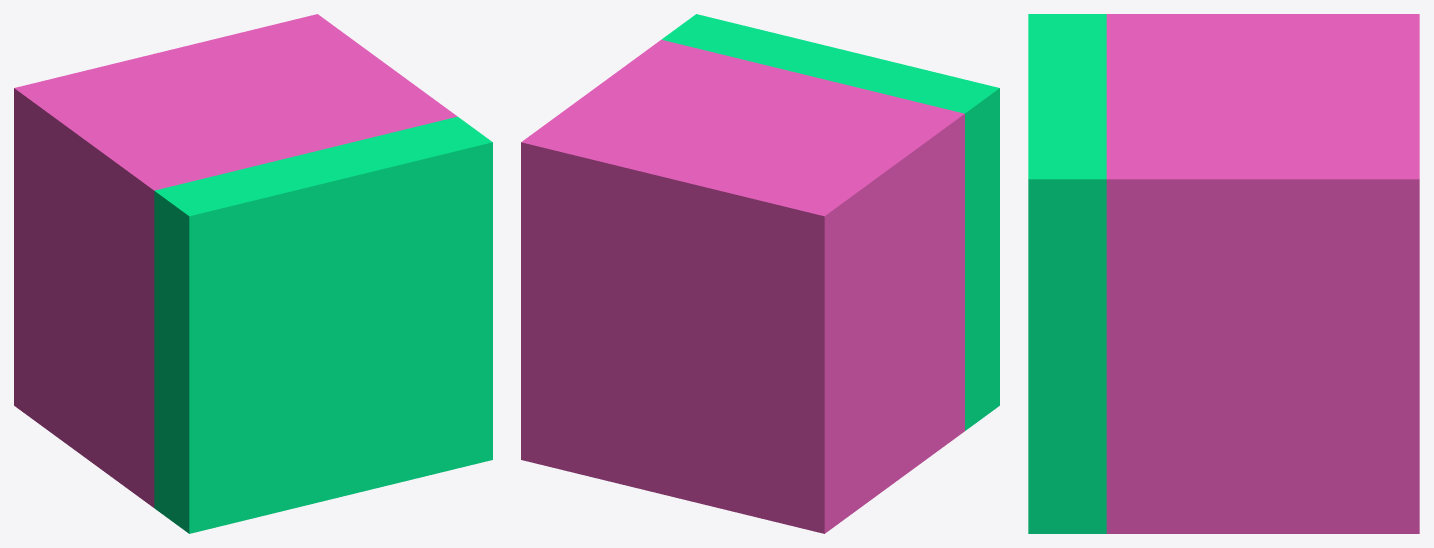
File: strength.fbx
3 renders of one model, left to right at view 1: azimuth 30°, elevation 25°; view 2: azimuth 150°, elevation 25°; view 3: azimuth 270°, elevation 25°, orthographic. The views are drawn at different scales.
Visible parts, largest first — view 1: 对象; view 2: 对象; view 3: 对象.
Part boxes in pixels (x1,y1,x2,y2): 对象: (14,14,492,533); 对象: (521,14,999,533); 对象: (1028,14,1419,533).
Bounding box in the file's own units: 5 × 5 × 5.
Materials: 1 (1 with a texture image).
